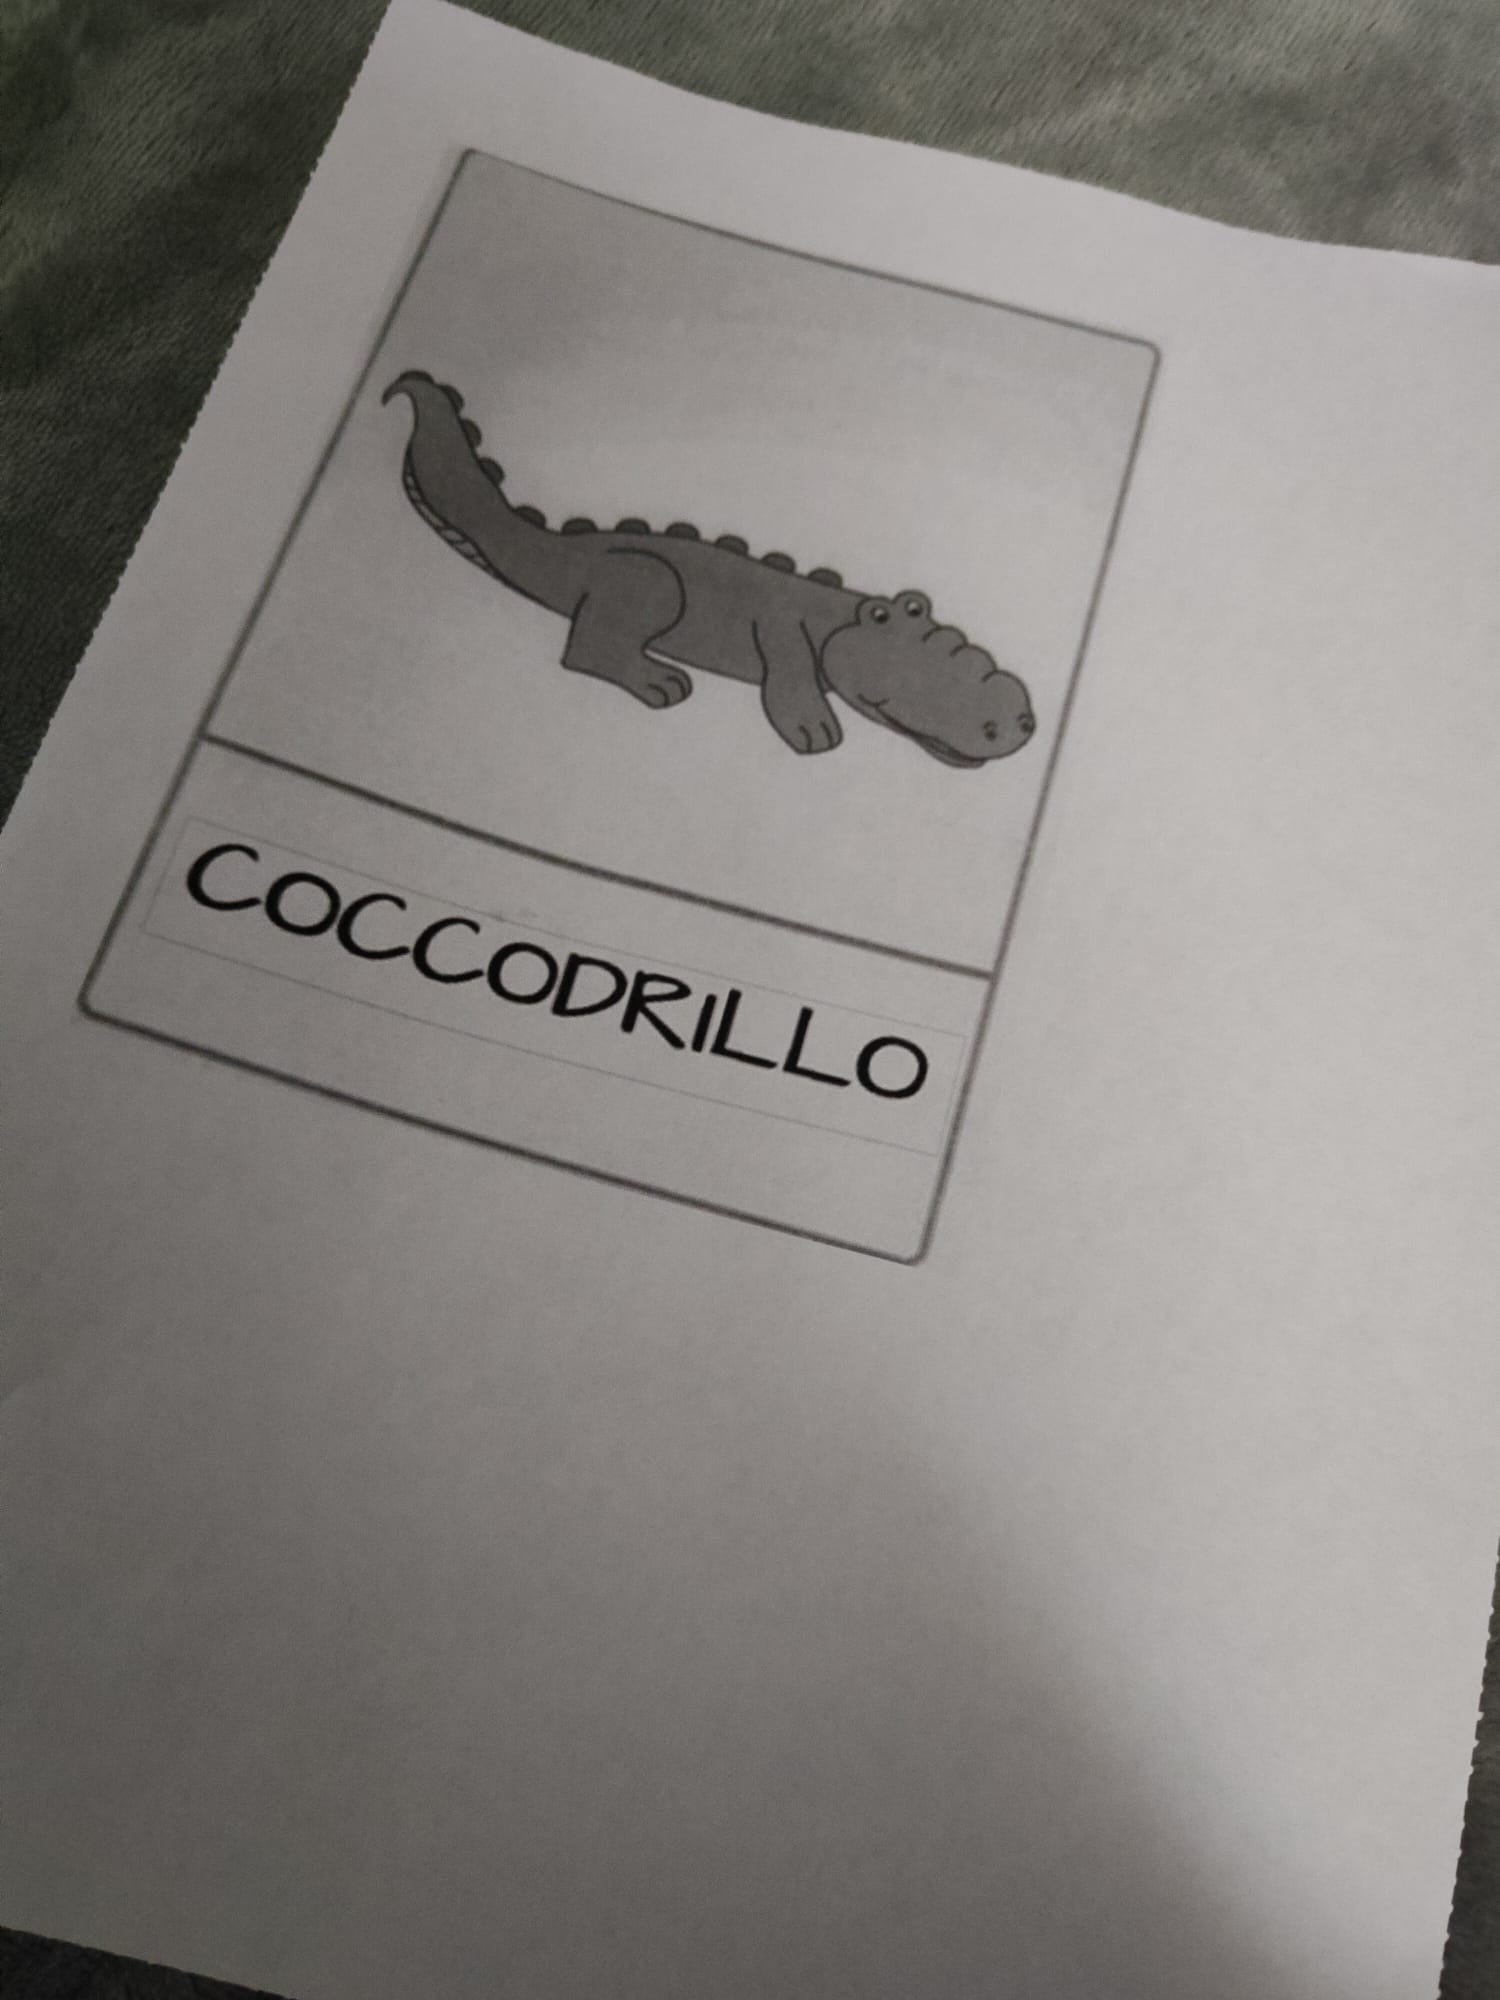coccodrillo: (210, 141, 1056, 1172)
